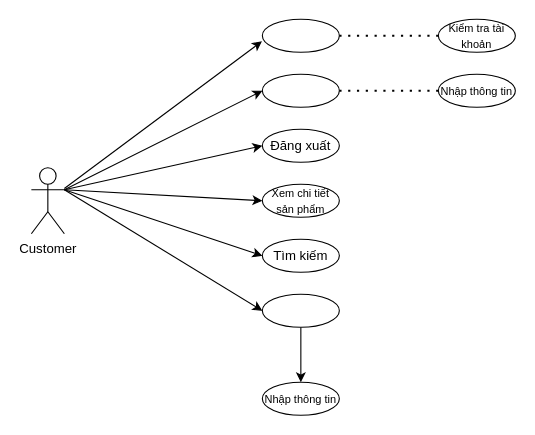
The diagram is 535 pixels wide and 435 high, and some of its shapes have lost their labels. The shapes that lost their labels are listed below. From the top down, each one's centre as x and y in pixels, then its label:
At pixel 300 35: "Đăng nhập".
At pixel 300 90: "Đăng ký".
At pixel 300 310: "Đặt hàng".
